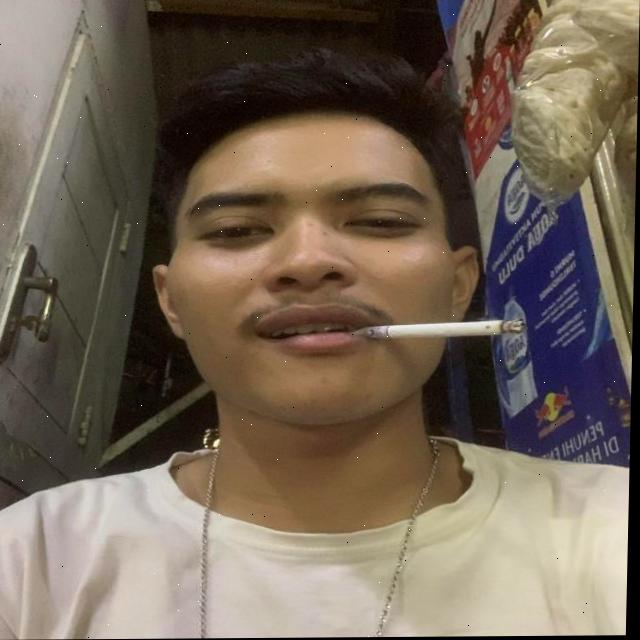cigarette: (356, 320, 526, 339)
